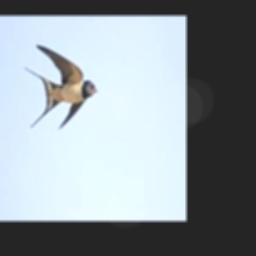Swallow: (23, 43, 98, 128)
